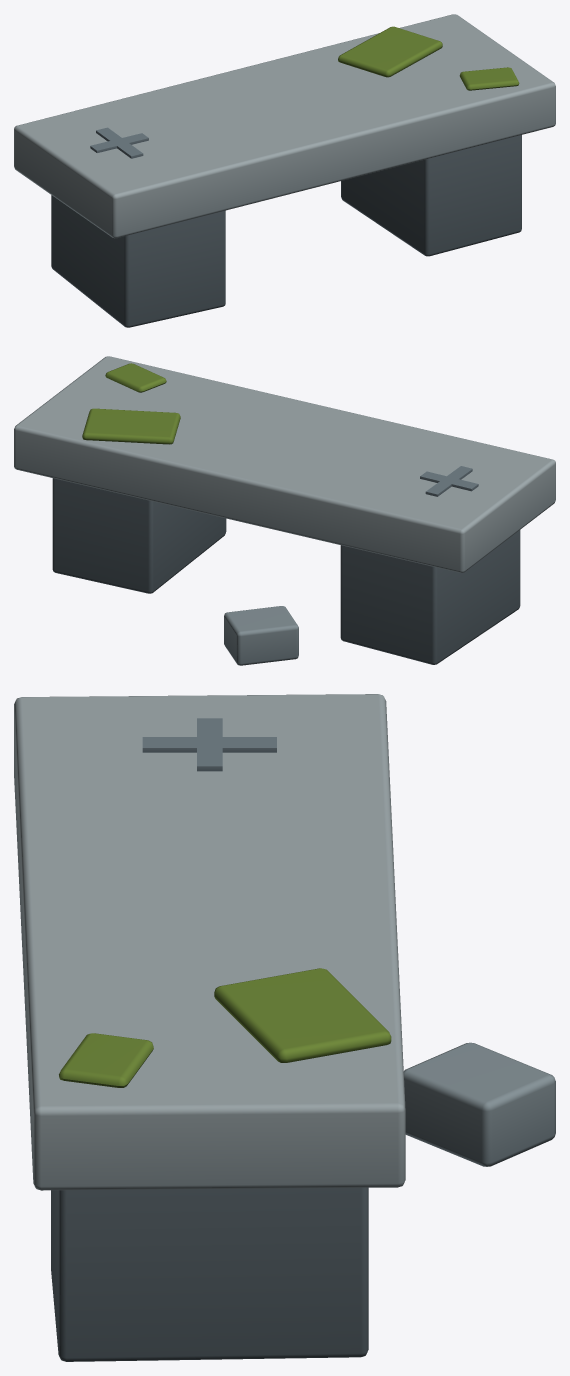
The model's file is coffinstone.glb.
3 views of the same model, one above another, from view 1: azimuth 30°, elevation 25°; view 2: azimuth 150°, elevation 25°; view 3: azimuth 270°, elevation 25° (orthographic). The views are drawn at different scales.
Visible parts, largest first — view 1: coffinstone, coffinstone_trim; view 2: coffinstone, coffinstone_trim; view 3: coffinstone, coffinstone_trim.
Part boxes in pixels (x1,y1,x2,y2): coffinstone: (14,14,555,327); coffinstone_trim: (90,127,148,158); coffinstone: (14,356,555,665); coffinstone_trim: (420,466,478,496); coffinstone: (14,694,555,1361); coffinstone_trim: (142,718,276,771).
Bounding box in the file's own units: 1.91 × 0.625 × 1.05.
